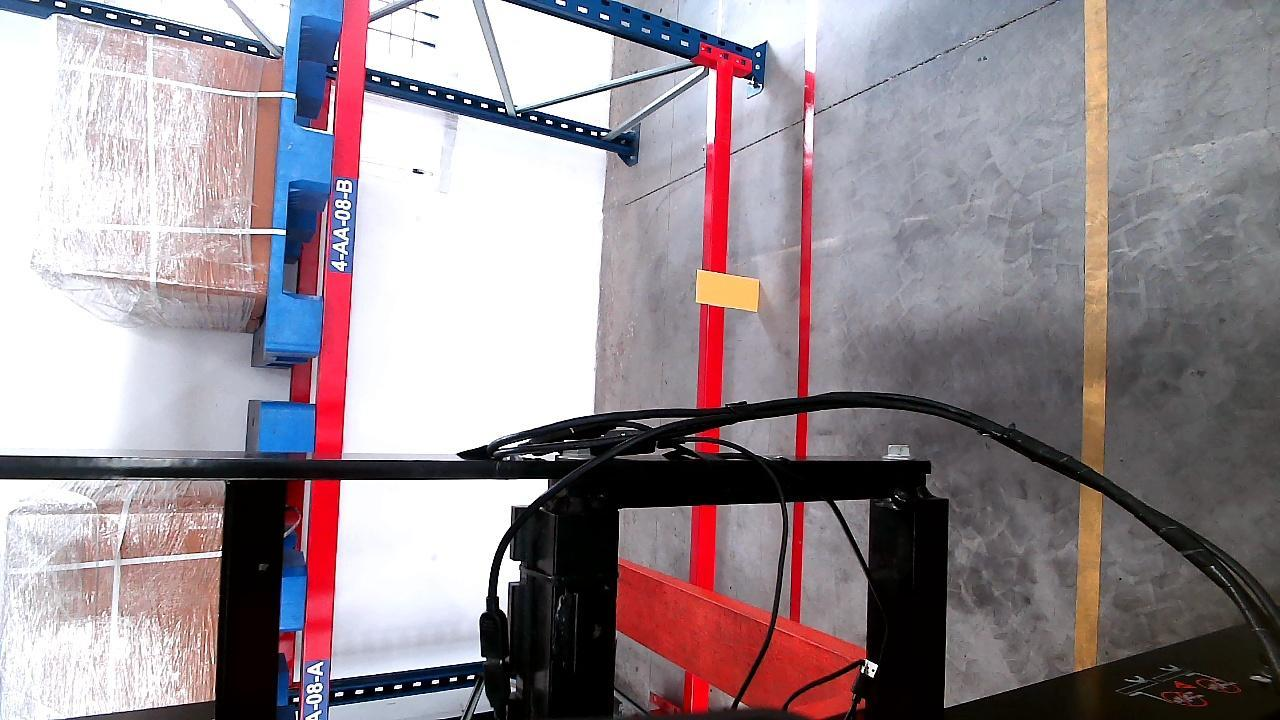red_line: (790, 1, 817, 619)
yellow_line: (1078, 1, 1112, 672)
